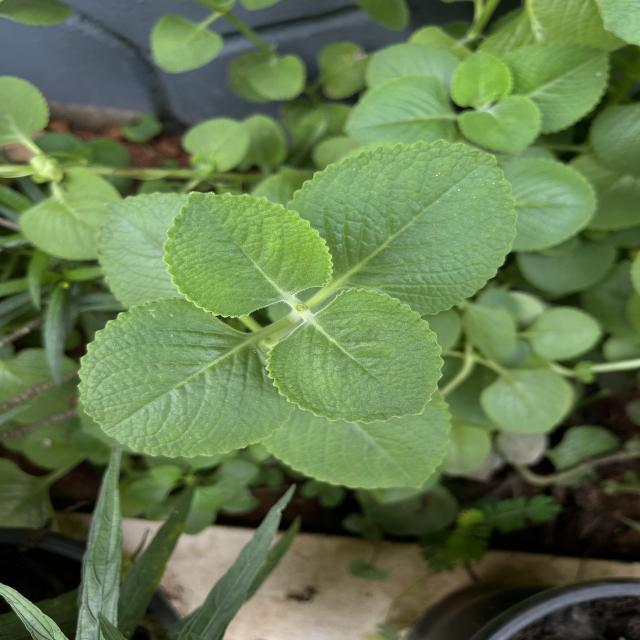Plectranthus barbatus: (286, 136, 518, 318), (74, 294, 298, 460), (262, 286, 448, 427), (162, 186, 338, 320), (499, 42, 612, 136), (501, 154, 599, 253), (343, 74, 463, 148), (454, 95, 544, 156), (448, 48, 516, 108)
